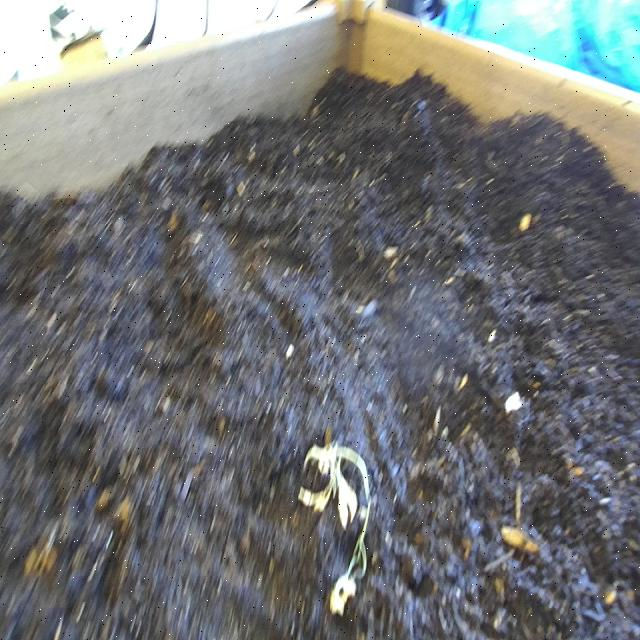Unhealthy: (300, 435, 374, 619)
